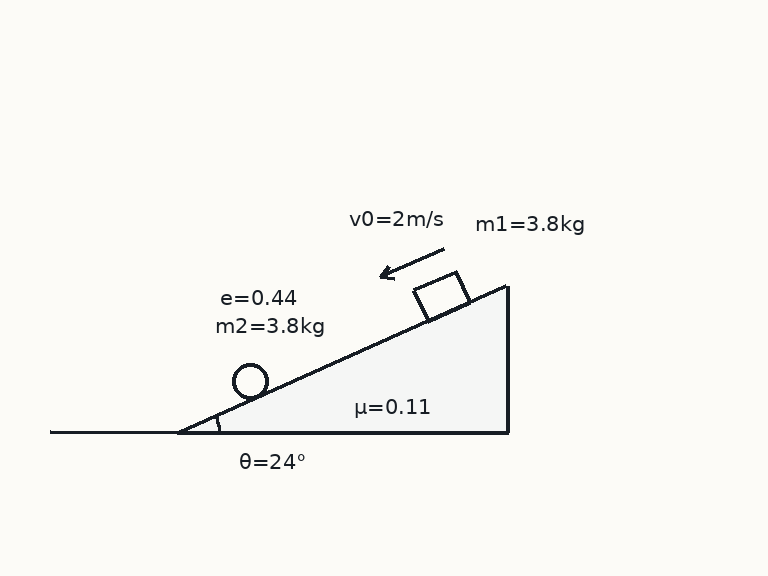ball: (230, 361, 270, 401)
block: (412, 269, 472, 323)
ramp: (177, 284, 508, 434)
